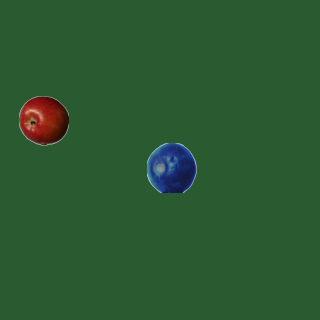Apple Braeburn: (18, 95, 68, 145)
Huckleberry: (146, 142, 196, 192)
